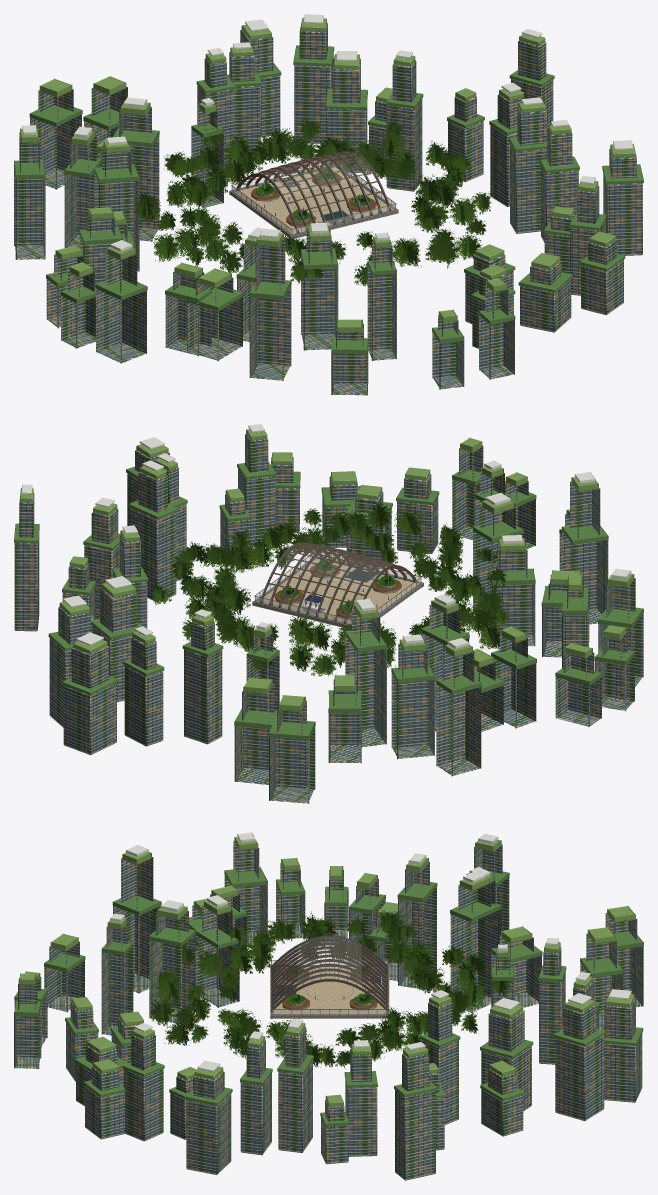
File: courtyard_env_web.glb
The picture shows the model from 3 angles, top to bottom: view 1: azimuth 30°, elevation 25°; view 2: azimuth 150°, elevation 25°; view 3: azimuth 270°, elevation 25°; orthographic projection. The views are drawn at different scales.
Visible parts, largest first — view 1: Env_Solarpunk_Skyline, Env_Treeline_Canopy, Env_Pergola_Arches, Env_Terrace_Floor, Env_Terrace_Trim, Env_Balustrade_Glass, Env_Planter_Islands, Env_Balustrade_Frame; view 2: Env_Solarpunk_Skyline, Env_Treeline_Canopy, Env_Pergola_Arches, Env_Terrace_Floor, Env_Balustrade_Glass, Env_Terrace_Trim, Env_Planter_Islands, Env_Balustrade_Frame; view 3: Env_Solarpunk_Skyline, Env_Treeline_Canopy, Env_Pergola_Arches, Env_Terrace_Floor, Env_Terrace_Trim, Env_Planter_Islands, Env_Balustrade_Glass.
Part boxes in pixels (left/top/right/bottom): Env_Solarpunk_Skyline: left=14, top=14, right=643, bottom=395; Env_Treeline_Canopy: left=133, top=118, right=491, bottom=286; Env_Pergola_Arches: left=236, top=151, right=391, bottom=233; Env_Terrace_Floor: left=234, top=167, right=392, bottom=234; Env_Terrace_Trim: left=229, top=165, right=398, bottom=238; Env_Balustrade_Glass: left=231, top=161, right=395, bottom=233; Env_Planter_Islands: left=251, top=164, right=376, bottom=227; Env_Balustrade_Frame: left=231, top=160, right=396, bottom=234; Env_Solarpunk_Skyline: left=14, top=424, right=643, bottom=803; Env_Treeline_Canopy: left=152, top=500, right=509, bottom=676; Env_Pergola_Arches: left=259, top=542, right=416, bottom=623; Env_Terrace_Floor: left=257, top=558, right=418, bottom=624; Env_Balustrade_Glass: left=255, top=552, right=421, bottom=624; Env_Terrace_Trim: left=252, top=557, right=423, bottom=628; Env_Planter_Islands: left=274, top=556, right=401, bottom=619; Env_Balustrade_Frame: left=254, top=551, right=421, bottom=624; Env_Solarpunk_Skyline: left=14, top=832, right=643, bottom=1180; Env_Treeline_Canopy: left=151, top=910, right=512, bottom=1068; Env_Pergola_Arches: left=271, top=935, right=388, bottom=1012; Env_Terrace_Floor: left=273, top=967, right=386, bottom=1014; Env_Terrace_Trim: left=270, top=965, right=389, bottom=1018; Env_Planter_Islands: left=282, top=960, right=377, bottom=1010; Env_Balustrade_Glass: left=272, top=960, right=387, bottom=1013.
Size of the model in its own units: 92.9 by 22.57 by 96.13.
Materials: 22 (9 with a texture image).
